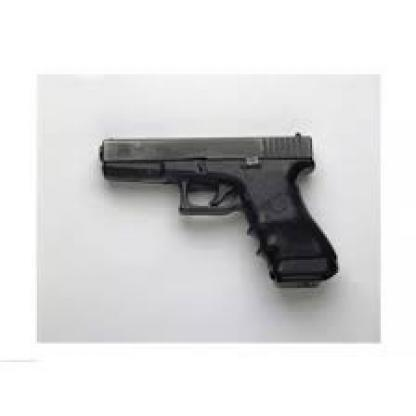Pistol: (95, 130, 338, 286)
